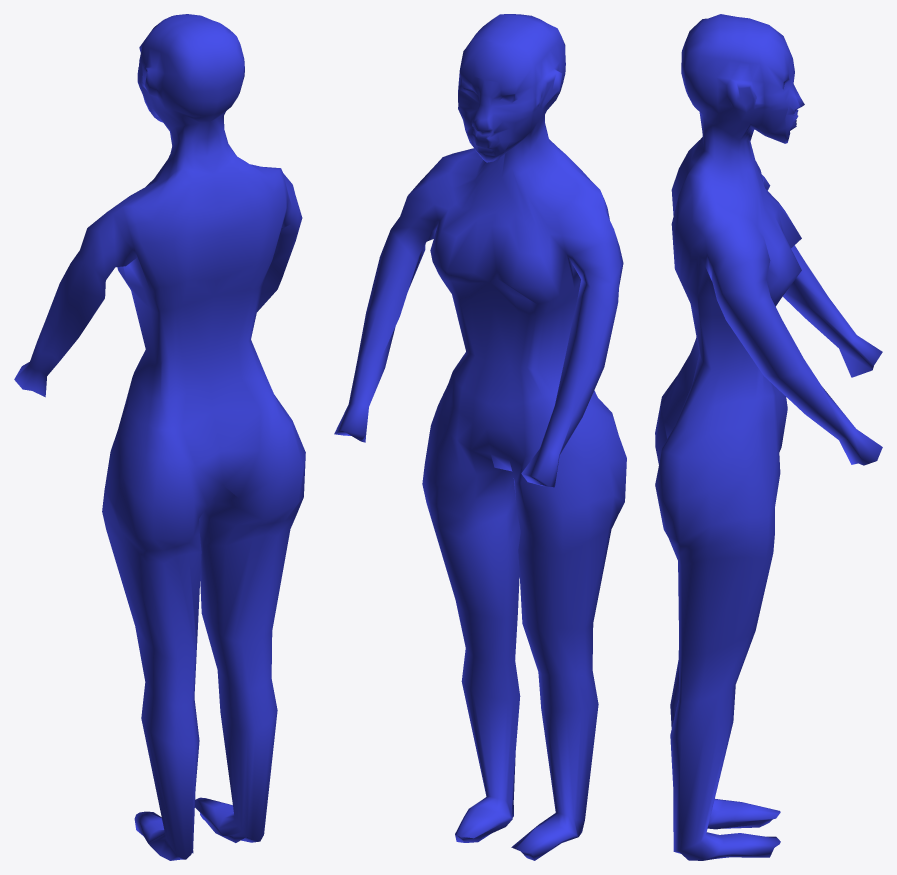
3 views of the same model, side by side, from view 1: azimuth 30°, elevation 25°; view 2: azimuth 150°, elevation 25°; view 3: azimuth 270°, elevation 25° (orthographic).
Visible parts, largest first — view 1: Roundcube.001; view 2: Roundcube.001; view 3: Roundcube.001.
Part boxes in pixels (x1,y1,x2,y2): Roundcube.001: (14, 14, 305, 860); Roundcube.001: (334, 14, 626, 860); Roundcube.001: (655, 14, 882, 860).
Size of the model in its own units: 2.58 by 8.77 by 2.21.
